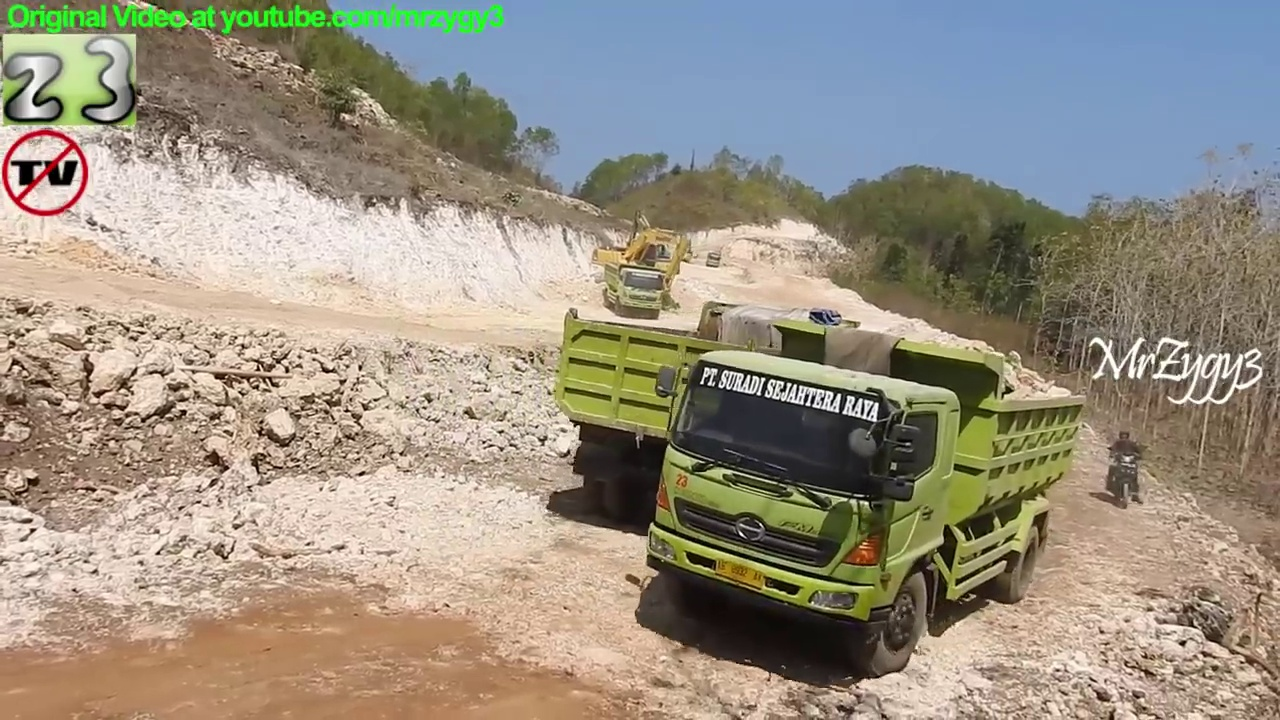excavator: (591, 227, 689, 296), (619, 209, 675, 281)
truck: (643, 302, 1088, 682), (554, 296, 915, 524), (602, 258, 668, 321), (705, 248, 726, 271)
